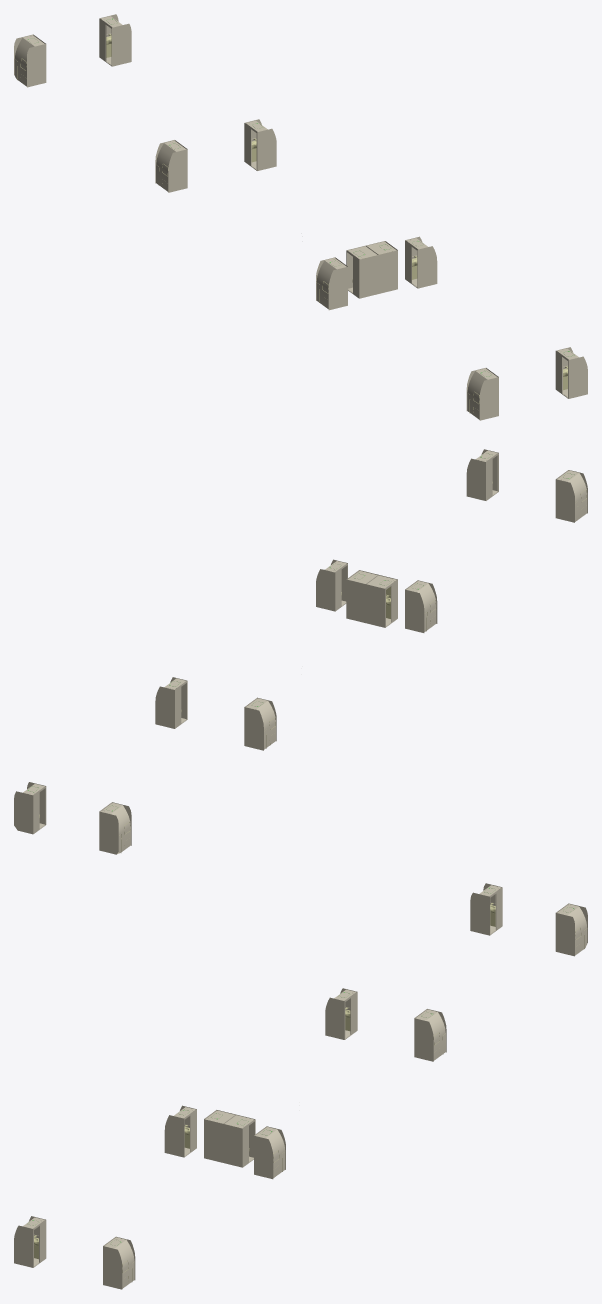
3 views of the same model, one above another, from view 1: azimuth 30°, elevation 25°; view 2: azimuth 150°, elevation 25°; view 3: azimuth 330°, elevation 25° (orthographic).
Visible parts, largest first — view 1: L_Lavatory_Side, L_Lavatory_Side_1, L_Lavatory_Side_3, L_Lavatory_center, L_Lavatory_Side_2, R_Lavatory_Side, R_Lavatory_Side_3, R_Lavatory_Side_1, R_Lavatory_Side_2, R_Lavatory_center; view 2: L_Lavatory_Side, L_Lavatory_Side_3, L_Lavatory_Side_1, L_Lavatory_Side_2, L_Lavatory_center, R_Lavatory_Side, R_Lavatory_Side_1, R_Lavatory_Side_3, R_Lavatory_Side_2, R_Lavatory_center; view 3: R_Lavatory_Side, R_Lavatory_Side_1, R_Lavatory_Side_3, R_Lavatory_center, R_Lavatory_Side_2, L_Lavatory_Side, L_Lavatory_Side_3, L_Lavatory_Side_1, L_Lavatory_Side_2, L_Lavatory_center.
Part boxes in pixels (left/top/right/bottom): L_Lavatory_Side: left=14, top=34, right=46, bottom=87; L_Lavatory_Side_1: left=155, top=140, right=187, bottom=192; L_Lavatory_Side_3: left=466, top=368, right=498, bottom=420; L_Lavatory_center: left=346, top=245, right=378, bottom=298; L_Lavatory_Side_2: left=316, top=257, right=347, bottom=310; R_Lavatory_Side: left=99, top=14, right=131, bottom=66; R_Lavatory_Side_3: left=555, top=347, right=587, bottom=398; R_Lavatory_Side_1: left=244, top=119, right=276, bottom=170; R_Lavatory_Side_2: left=405, top=236, right=437, bottom=288; R_Lavatory_center: left=366, top=241, right=397, bottom=293; L_Lavatory_Side: left=99, top=802, right=131, bottom=854; L_Lavatory_Side_3: left=555, top=470, right=587, bottom=522; L_Lavatory_Side_1: left=244, top=697, right=276, bottom=750; L_Lavatory_Side_2: left=405, top=580, right=437, bottom=632; L_Lavatory_center: left=366, top=575, right=397, bottom=627; R_Lavatory_Side: left=14, top=782, right=46, bottom=834; R_Lavatory_Side_1: left=155, top=677, right=187, bottom=728; R_Lavatory_Side_3: left=466, top=449, right=498, bottom=500; R_Lavatory_Side_2: left=316, top=559, right=347, bottom=611; R_Lavatory_center: left=346, top=570, right=378, bottom=623; R_Lavatory_Side: left=555, top=903, right=587, bottom=956; R_Lavatory_Side_1: left=414, top=1009, right=446, bottom=1061; R_Lavatory_Side_3: left=103, top=1236, right=135, bottom=1289; R_Lavatory_center: left=223, top=1114, right=255, bottom=1167; R_Lavatory_Side_2: left=254, top=1126, right=285, bottom=1179; L_Lavatory_Side: left=470, top=883, right=502, bottom=935; L_Lavatory_Side_3: left=14, top=1216, right=46, bottom=1267; L_Lavatory_Side_1: left=325, top=988, right=357, bottom=1039; L_Lavatory_Side_2: left=164, top=1105, right=196, bottom=1157; L_Lavatory_center: left=204, top=1110, right=235, bottom=1162.
Bounding box in the file's own units: 585 × 224 × 4370.
